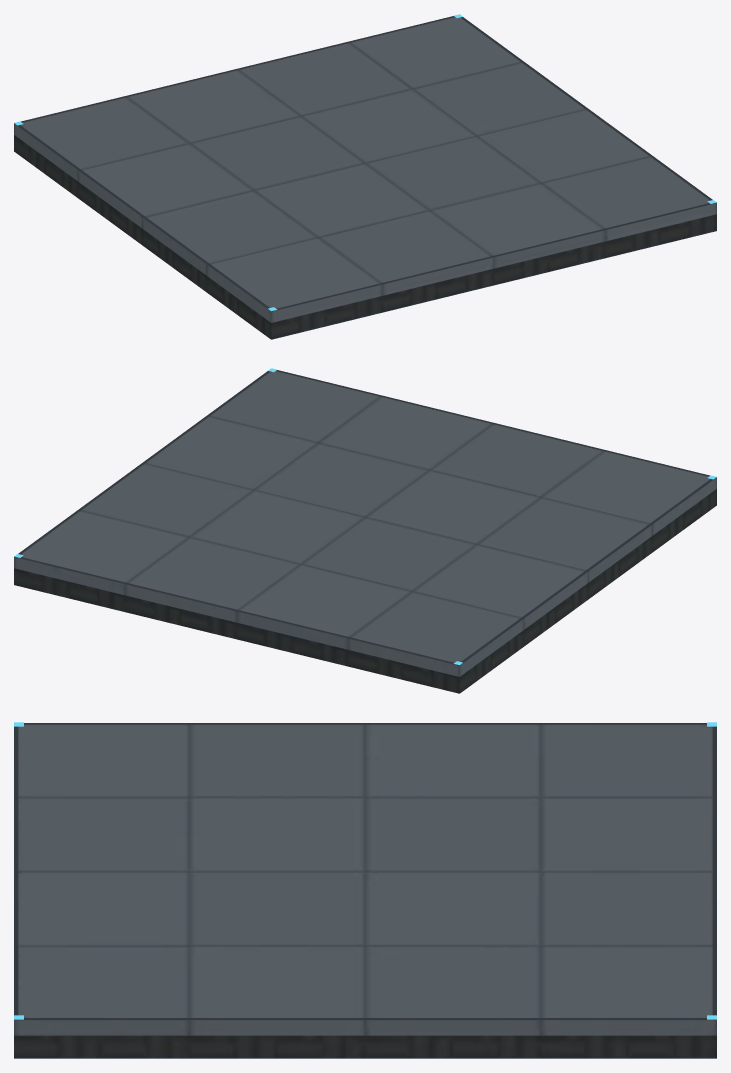
File: hull_enterprise_hull_standard.glb
3 renders of one model, top to bottom at view 1: azimuth 30°, elevation 25°; view 2: azimuth 150°, elevation 25°; view 3: azimuth 270°, elevation 25°, orthographic. The views are drawn at different scales.
Parts seen in each view (by area): view 1: te_hull_enterprise_hull_standard; view 2: te_hull_enterprise_hull_standard; view 3: te_hull_enterprise_hull_standard.
Part boxes in pixels (box(x1,y1,x2,y2)): te_hull_enterprise_hull_standard: box(14, 14, 716, 339); te_hull_enterprise_hull_standard: box(14, 368, 716, 693); te_hull_enterprise_hull_standard: box(14, 722, 716, 1058).
Bounding box in the file's own units: 1 × 0.0612 × 1.
Materials: 1 (1 with a texture image).
